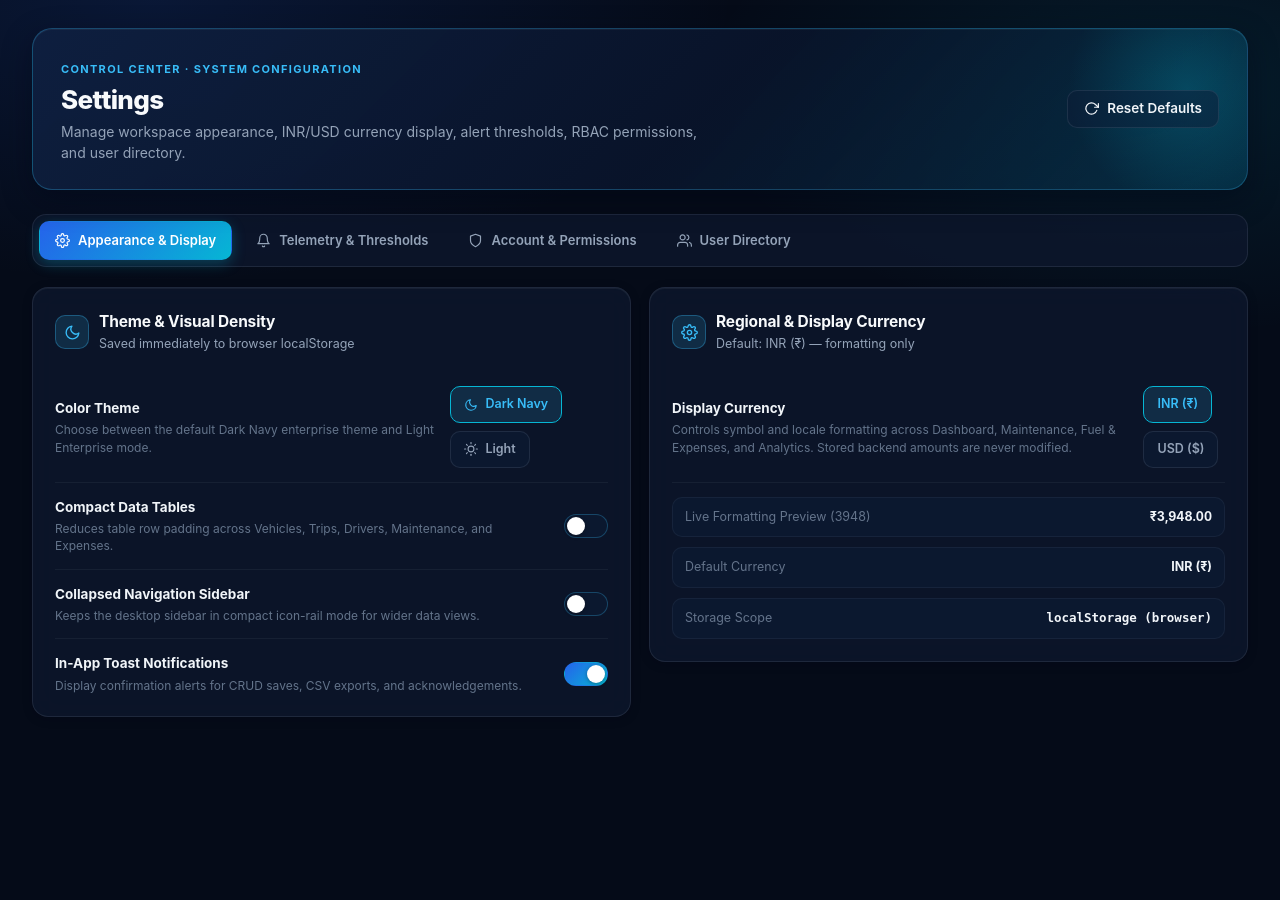
Scenario: P6-3 — SettingsPage validates and persists preferences, theme, INR/USD currency, and thresholds
Later steps or results of the test are not shown.
Expected: the text "₹3,948.00" is shown, [1150, 508, 1212, 526]
# Switch currency to USD ($) and verify persistence
Click the button "USD ($)": point(1181, 449) [1144, 431, 1218, 468]
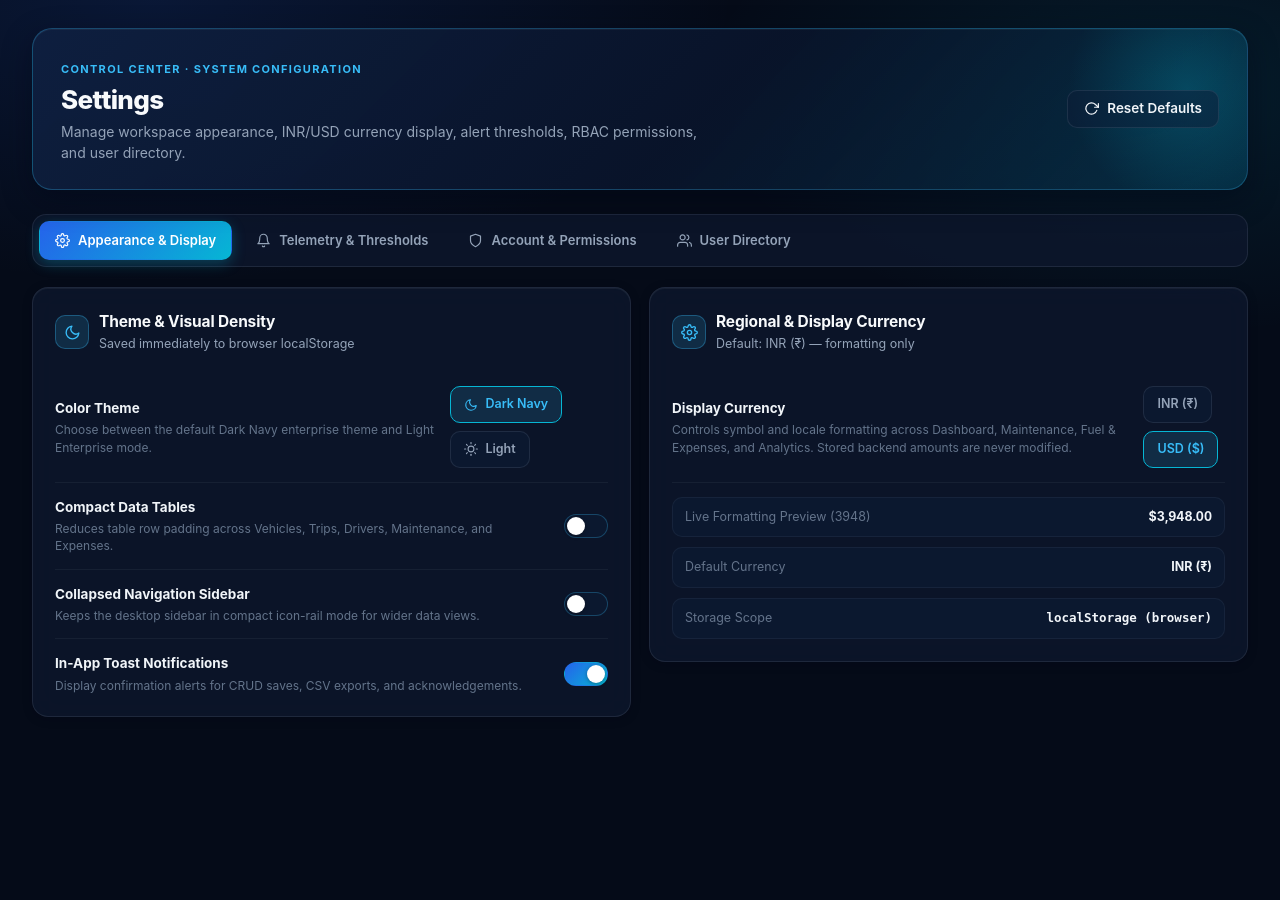
Result: the text "$3,948.00" is shown at [1149, 508, 1212, 526]
# Switch to Telemetry & Thresholds tab and test invalid range rejection
Click the tab "Telemetry & Thresholds": point(342, 240) [240, 221, 444, 260]
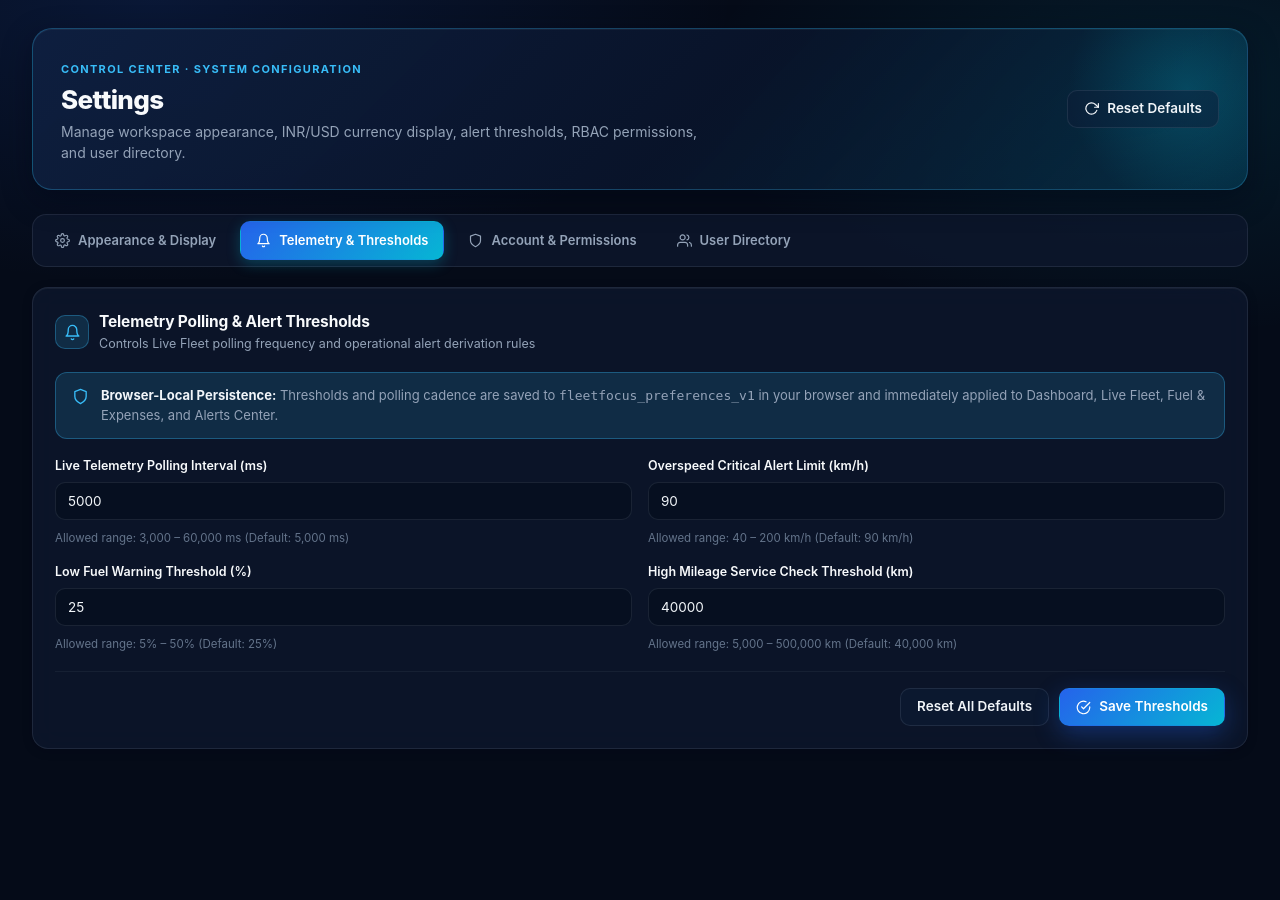
Replace the text in the number field labelled "Overspeed Critical Alert Limit (km/h)" with "15": point(936, 501) [648, 482, 1225, 520]
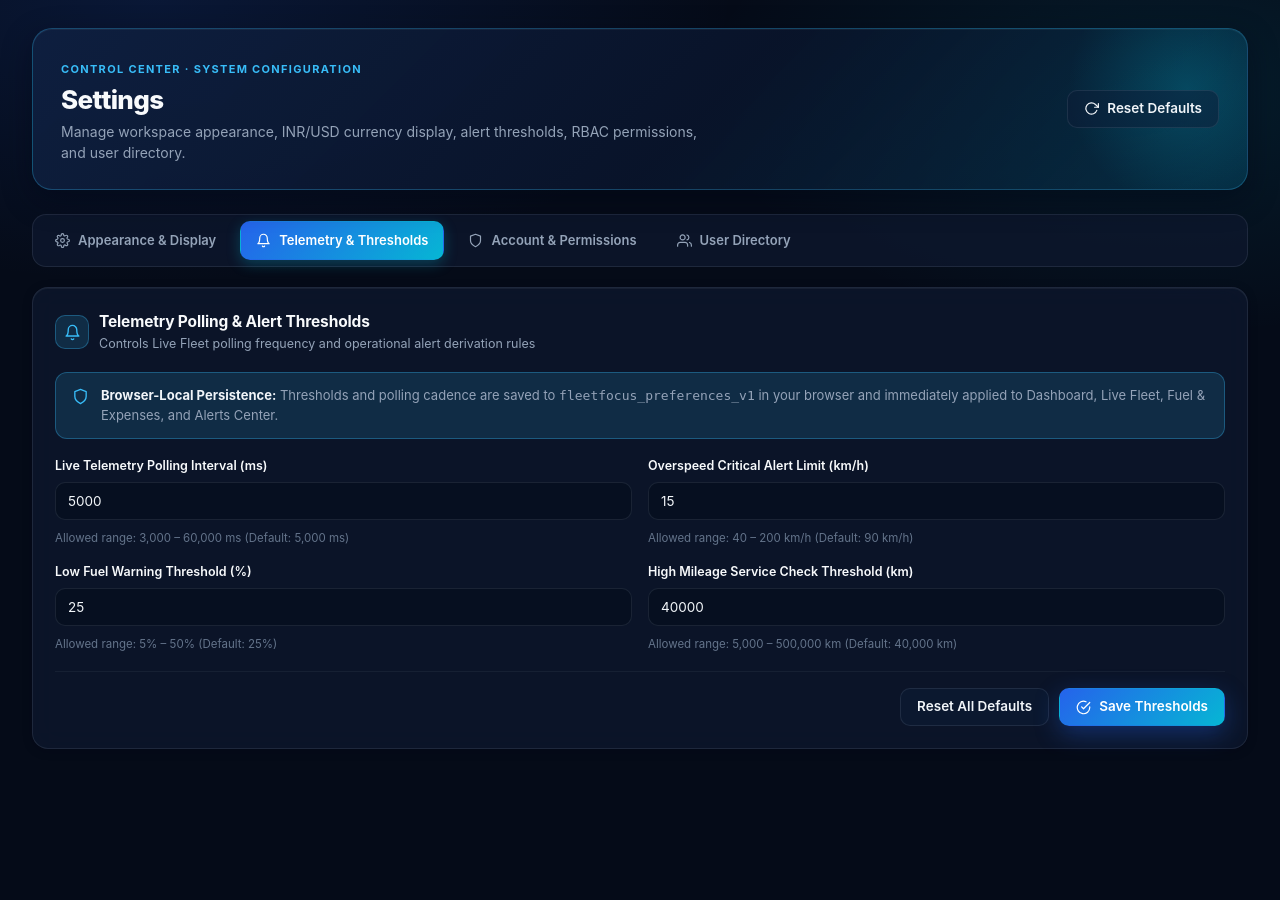
Click the button "Save Thresholds": point(1142, 707) [1059, 688, 1225, 726]
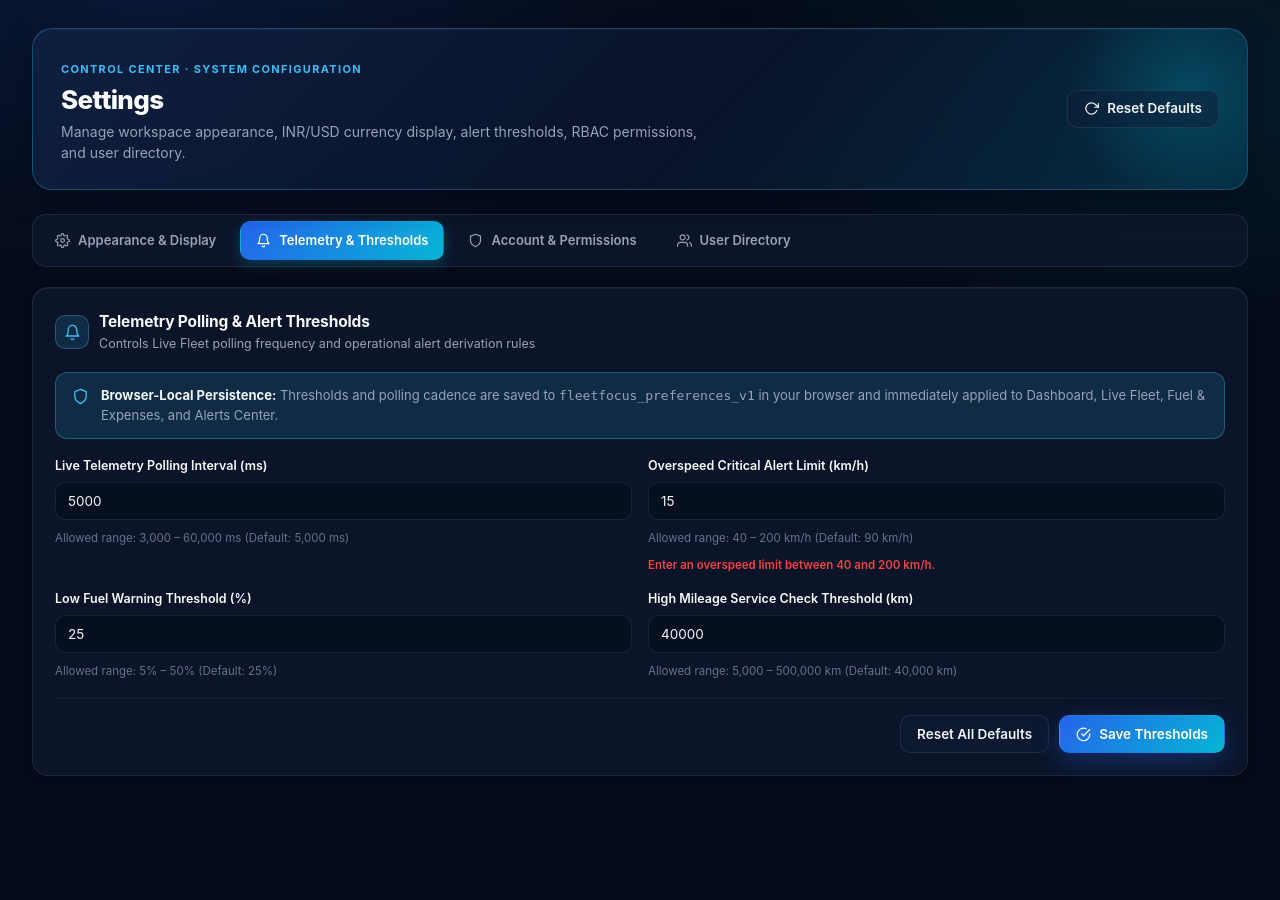
Result: the text "Enter an overspeed limit between 40 and 200 km/h." is shown at [648, 558, 935, 572]
